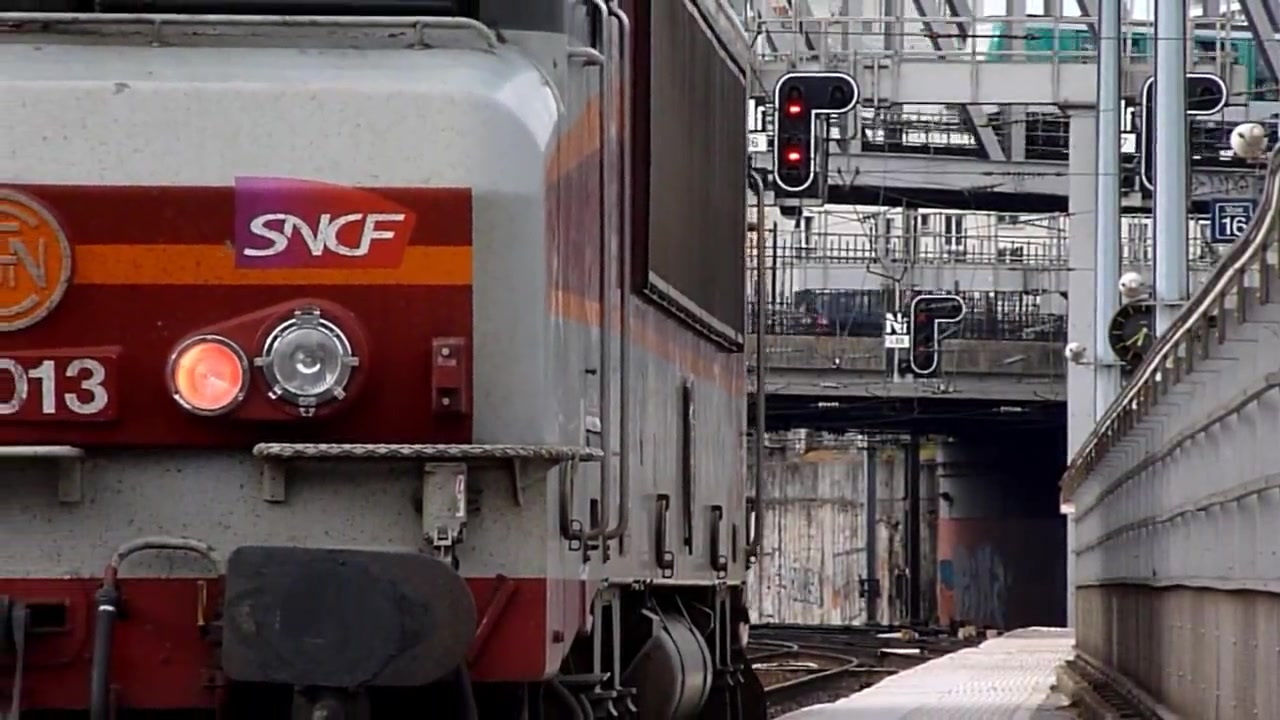train: (1, 1, 772, 712)
